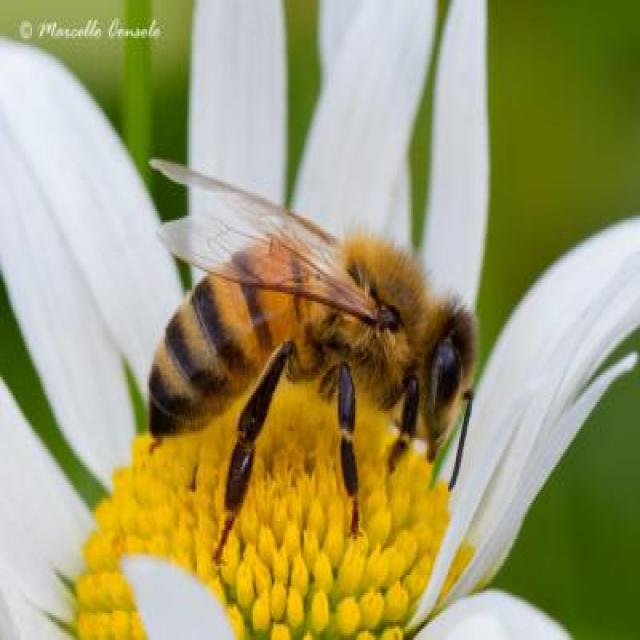antennae: (445, 384, 476, 494)
body: (146, 230, 475, 460)
insect: (141, 150, 481, 558)
legs: (211, 332, 304, 557), (321, 355, 361, 541), (372, 367, 418, 482)
mouthpart: (412, 417, 446, 473)
wings: (155, 212, 395, 334), (150, 155, 348, 254)
